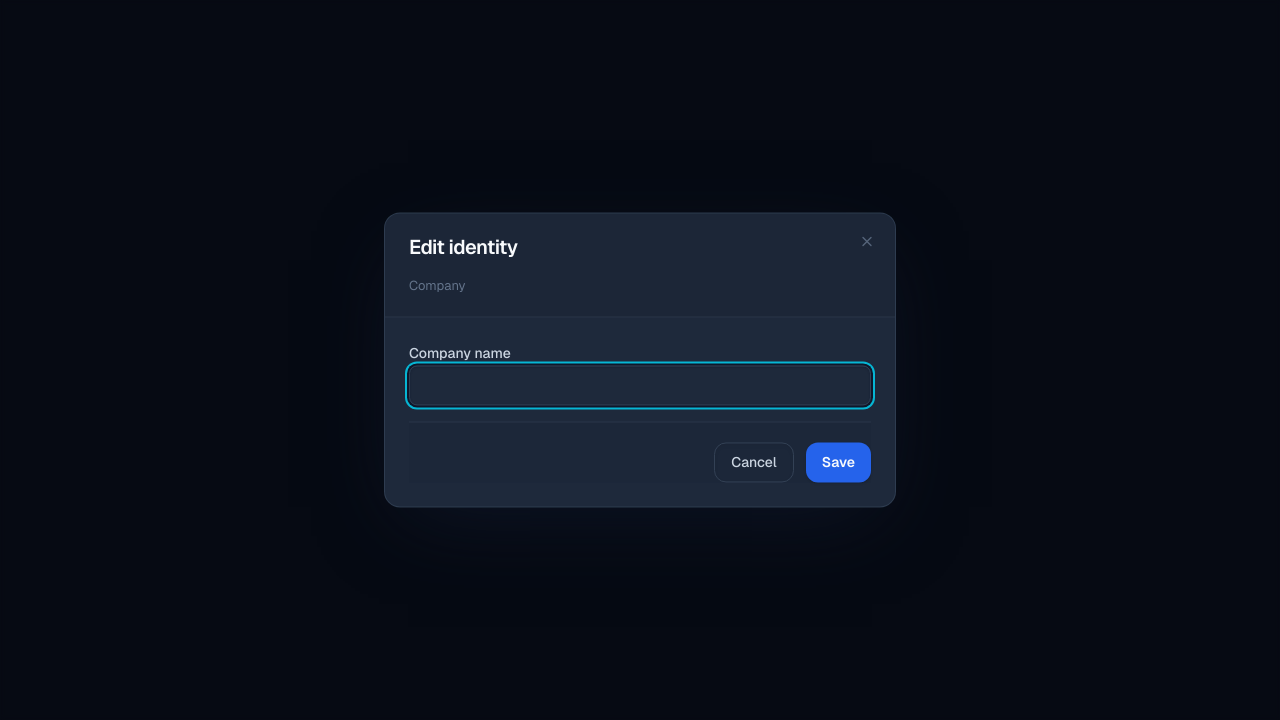
Test case: BrandingEditDialog › surfaces action errors
The width and height of the screenshot is (1280, 720).
What coordinates should you click on to do the following:
click the button "Save"
I would click on:
 (838, 463)
Its box is [806,443,871,483].
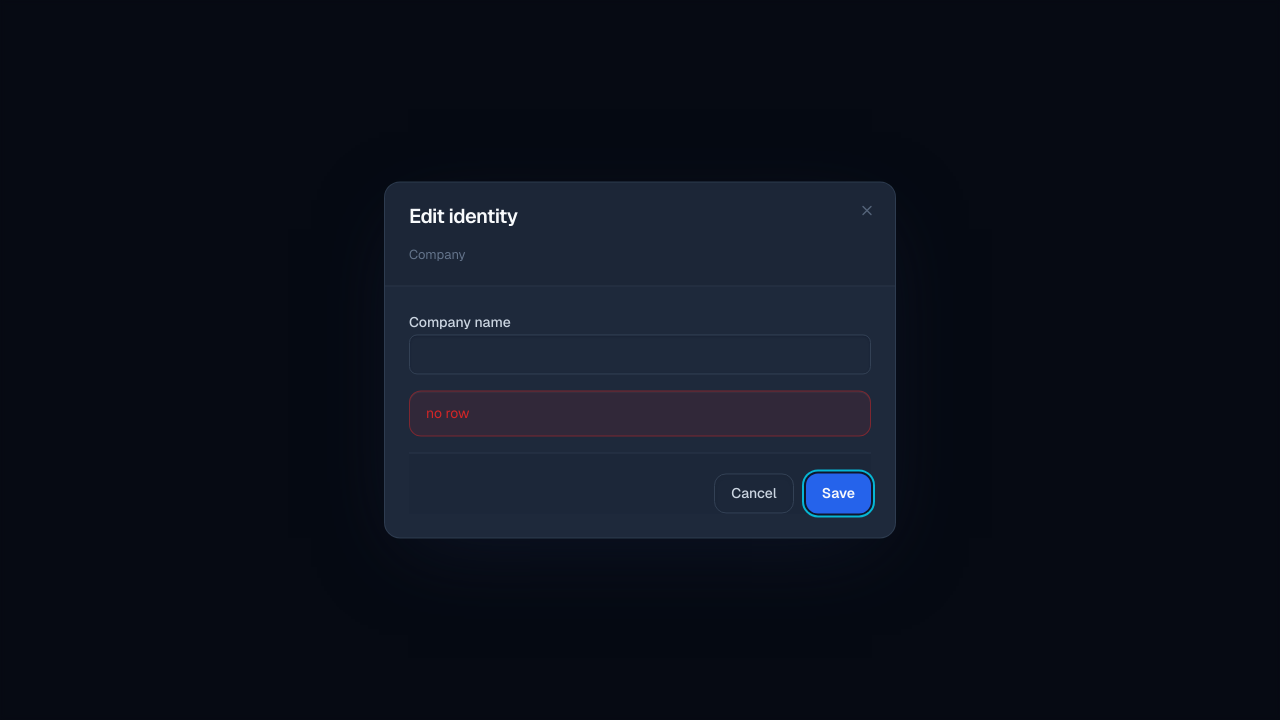
Now the message reads "no row", box [426,405,469,423]
